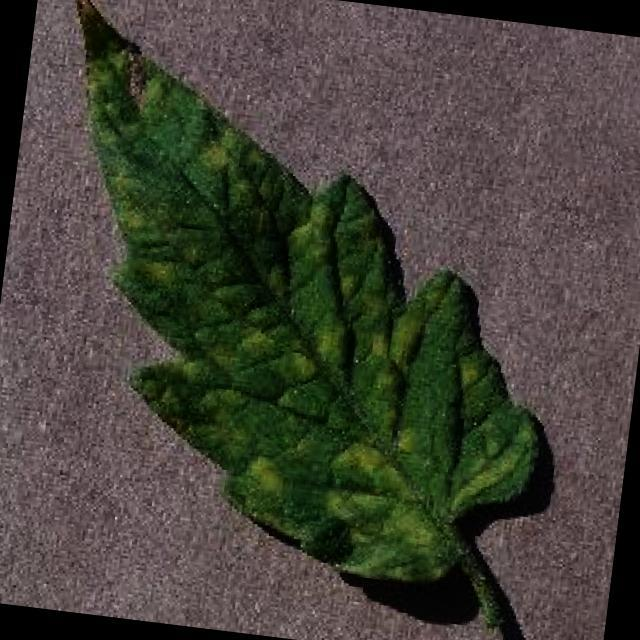Tomato mold leaf: (10, 0, 584, 596)
